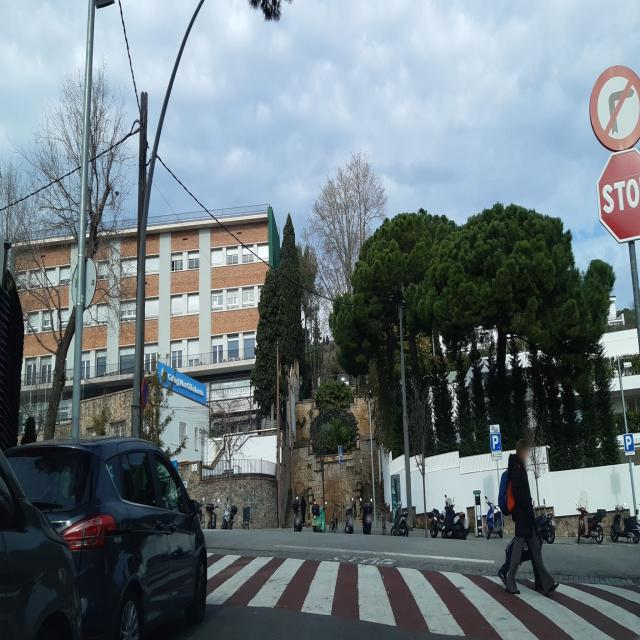forb_stopping: (142, 381, 148, 407)
